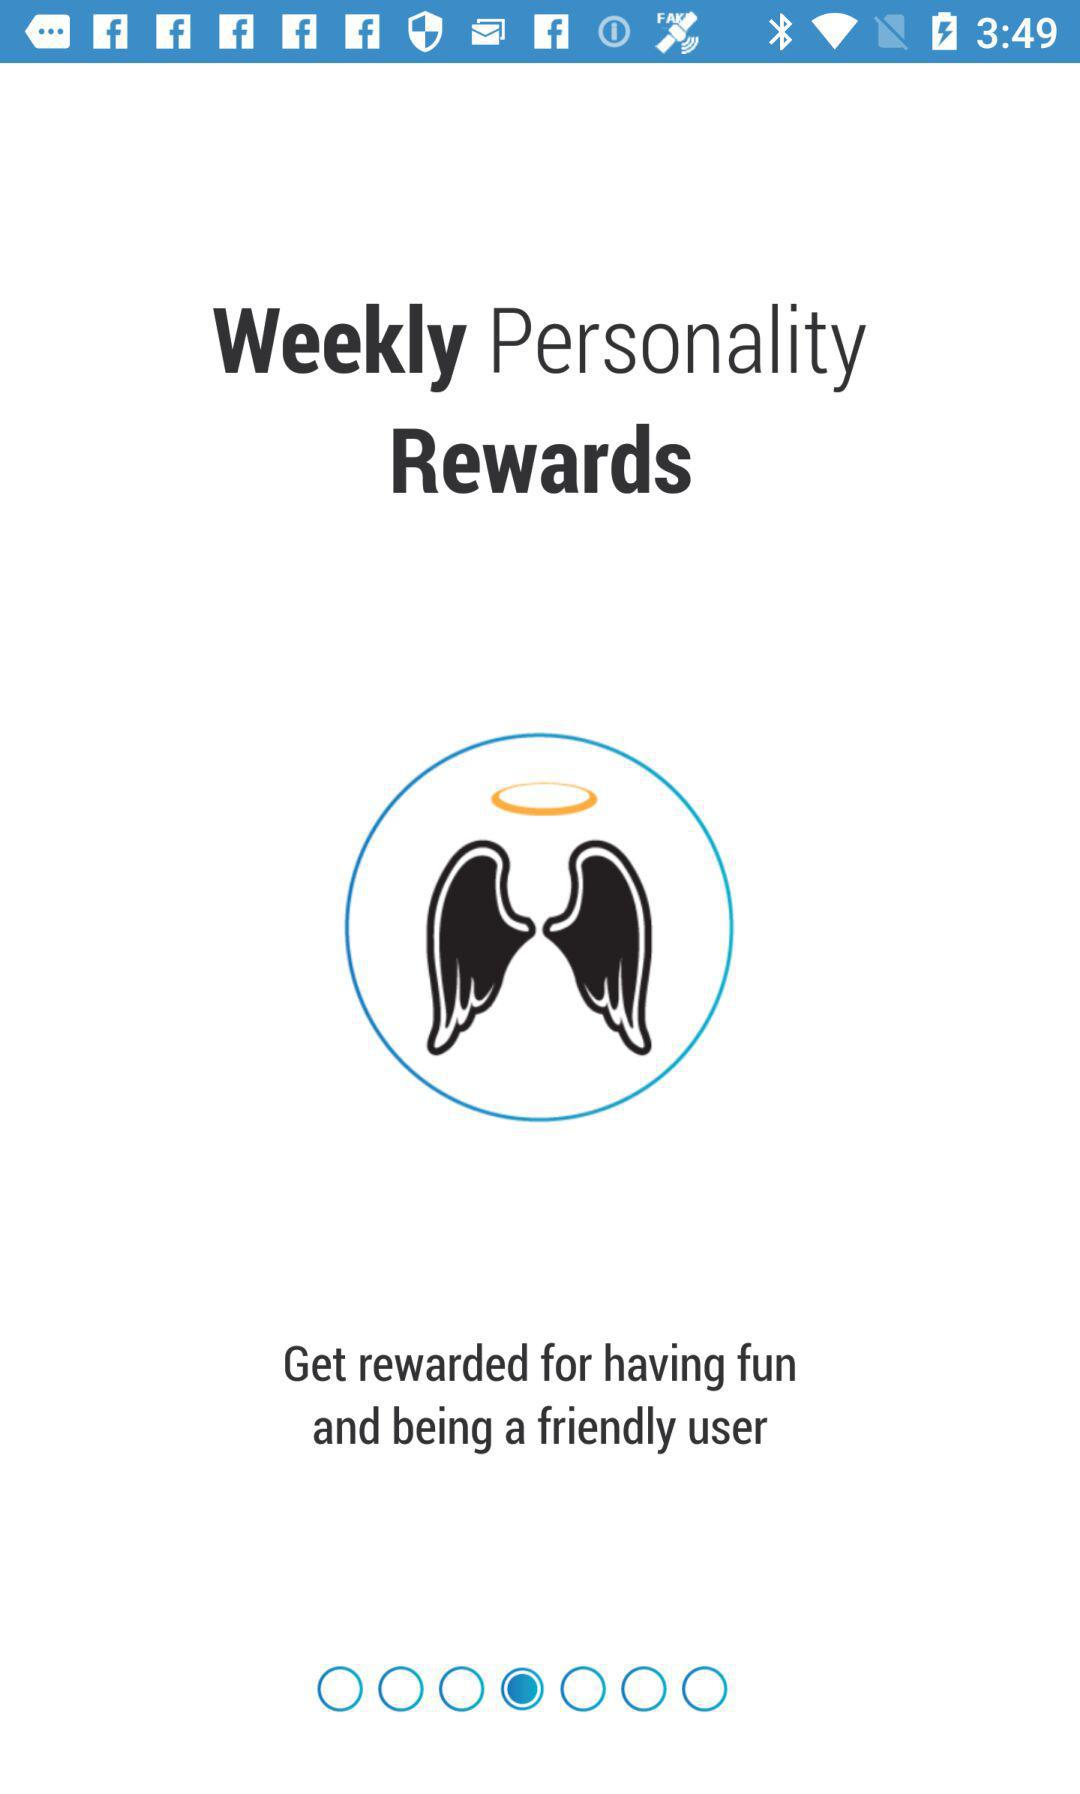Image: (343, 732, 735, 1124)
PageIndicator: (315, 1665, 730, 1715)
Text: (210, 300, 870, 498), (283, 1340, 798, 1458)
UpperTaskBar: (1, 1, 1080, 64)
